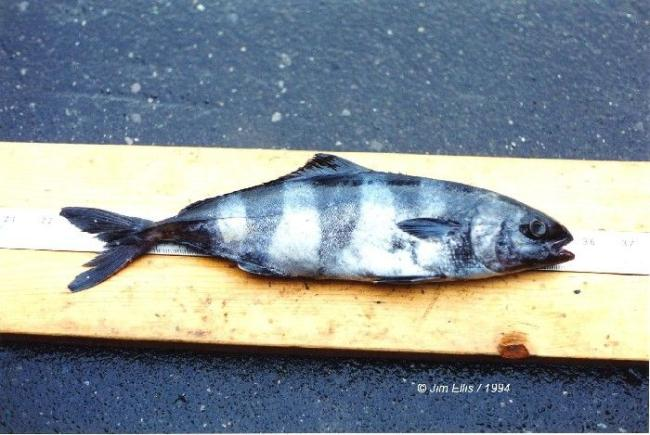fish: (60, 152, 576, 293)
